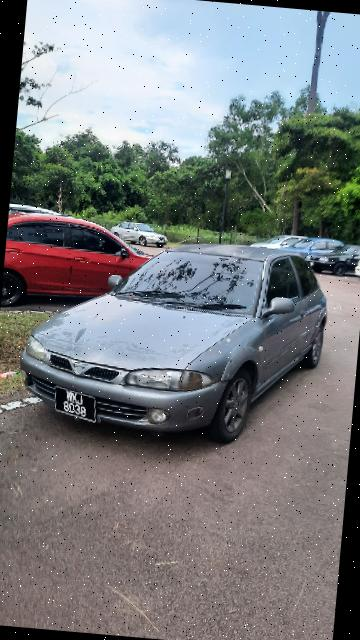License_Plate: (37, 382, 105, 431)
car: (16, 229, 336, 452), (2, 198, 183, 319)
